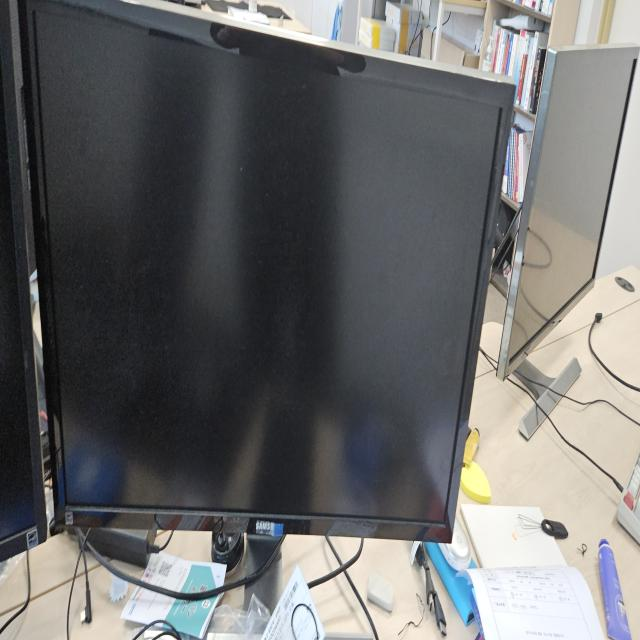Monitor: (17, 2, 518, 568)
